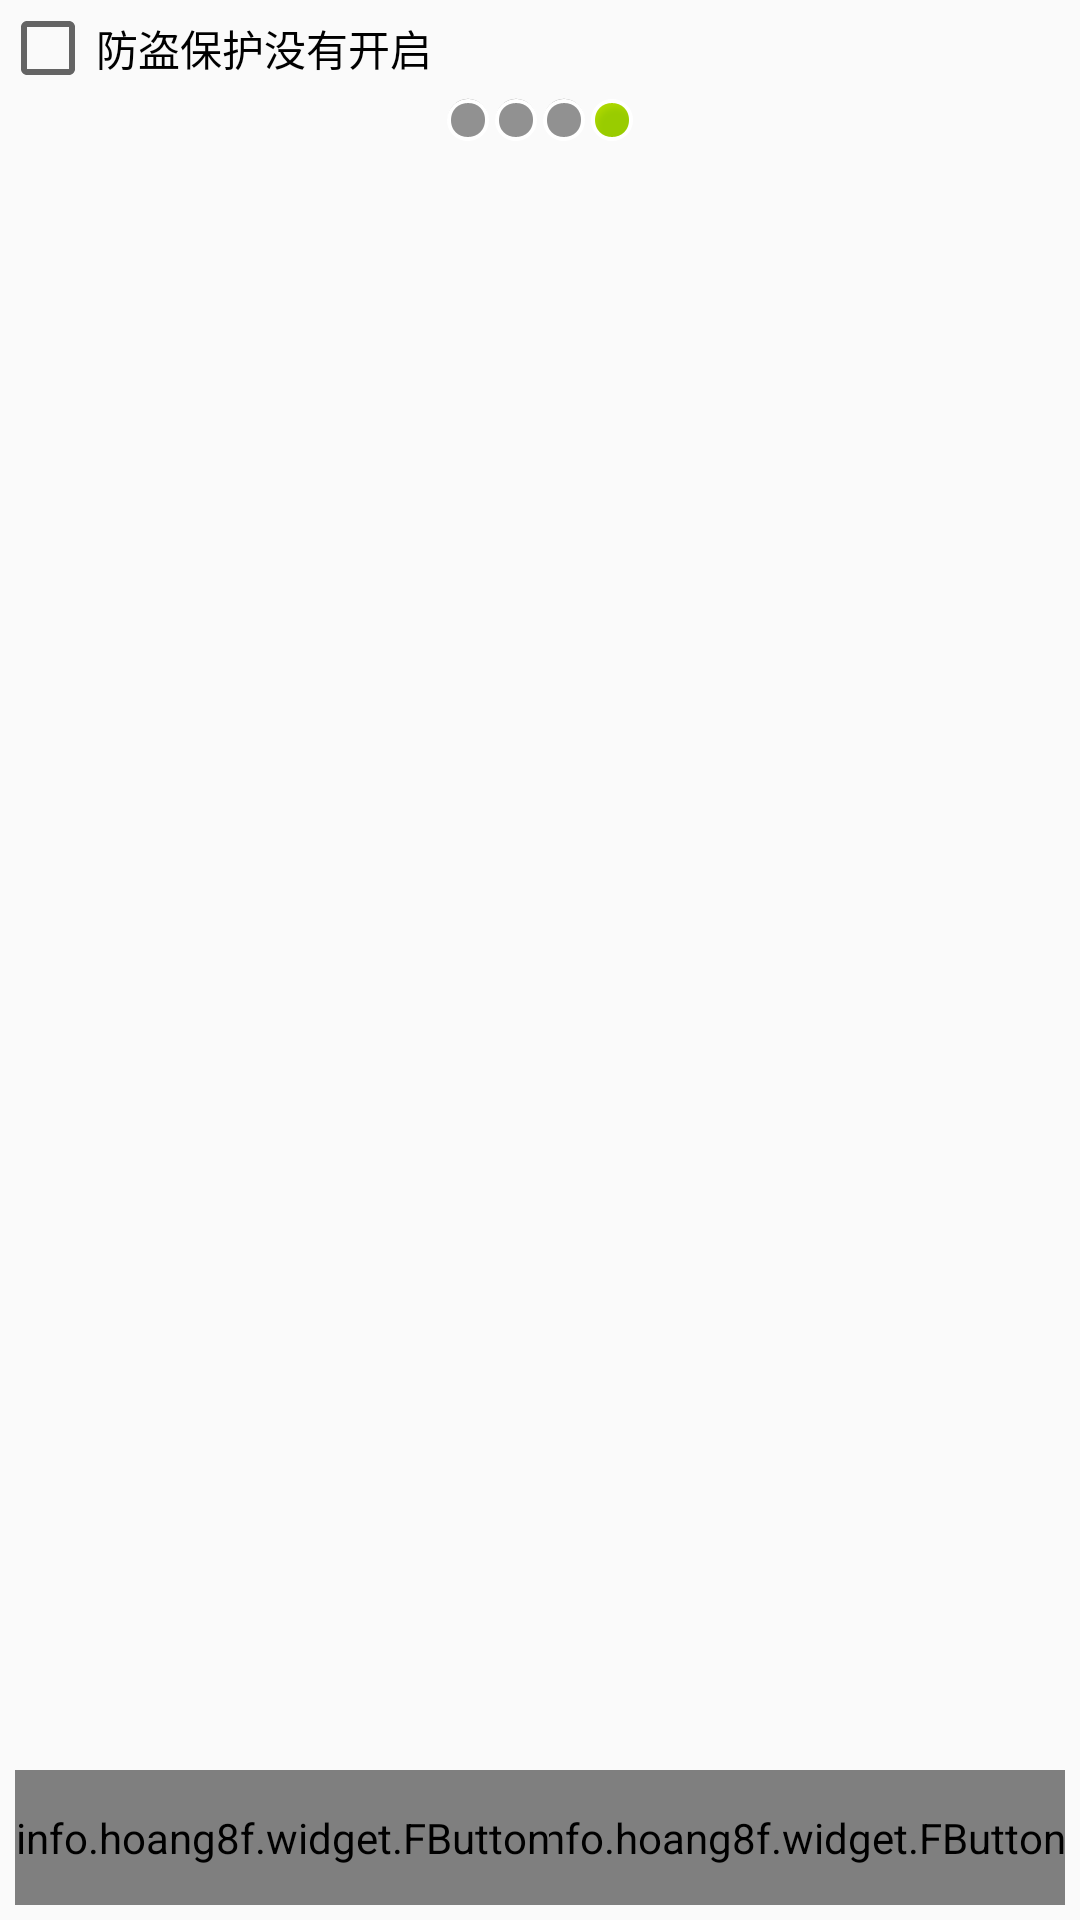

Icons on this 1080px x 1920px Android screen, each with the point to tap as point (x, y):
presence invisible: point (468, 118), point (516, 118), point (564, 118)
presence online: point (612, 120)
